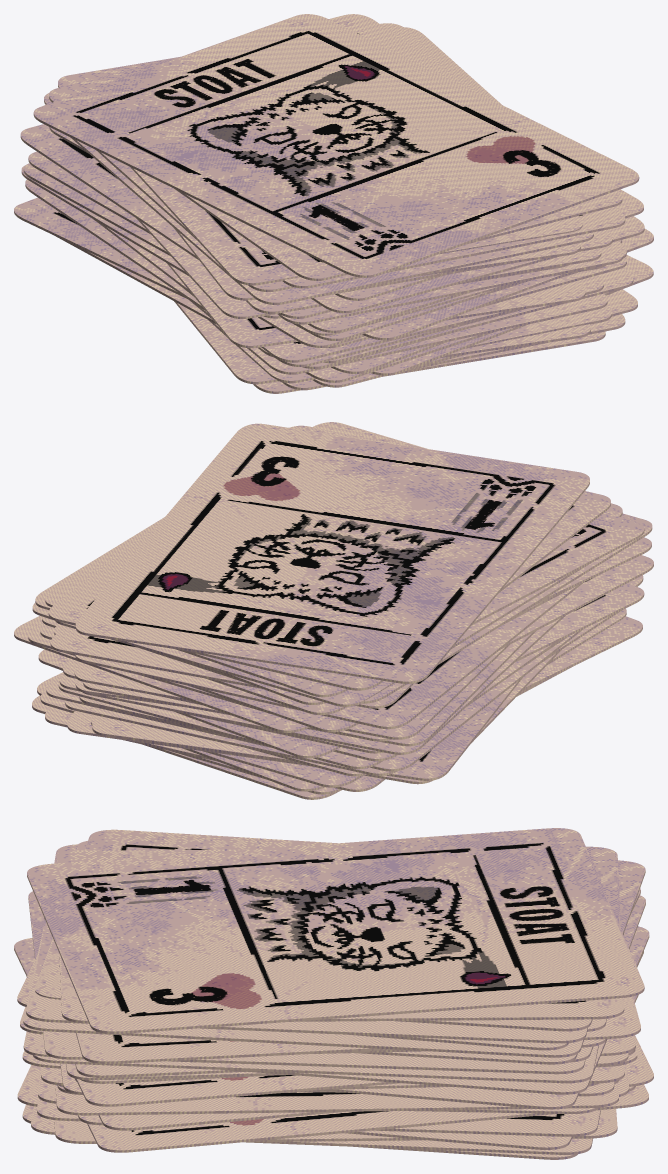
Rendered from card_deck_randomize_grouped2.fbx.
3 renders of one model, top to bottom at view 1: azimuth 30°, elevation 25°; view 2: azimuth 150°, elevation 25°; view 3: azimuth 270°, elevation 25°, orthographic. The views are drawn at different scales.
Visible parts, largest first — view 1: Plane; view 2: Plane; view 3: Plane.
Part boxes in pixels (<box>): Plane: <box>14,14,653,393</box>; Plane: <box>14,422,653,799</box>; Plane: <box>14,828,653,1159</box>.
Bounding box in the file's own units: 83.36 × 22.37 × 100.
2 materials, 2 textured.
